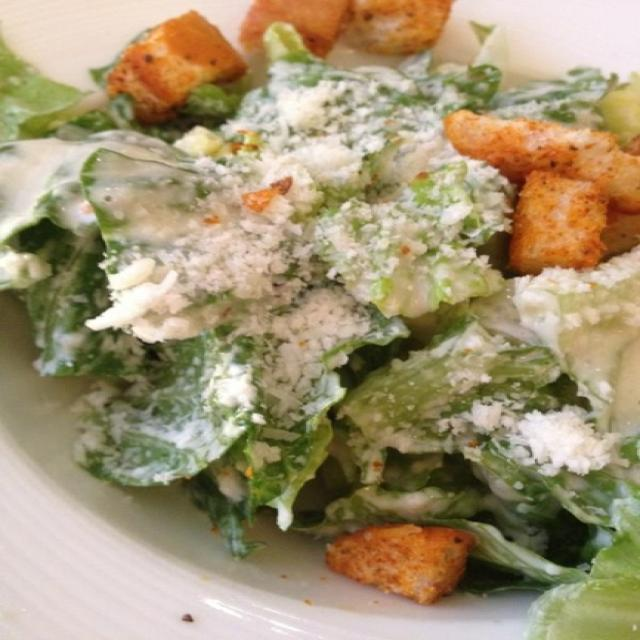蔬菜料理: (3, 5, 636, 631)
